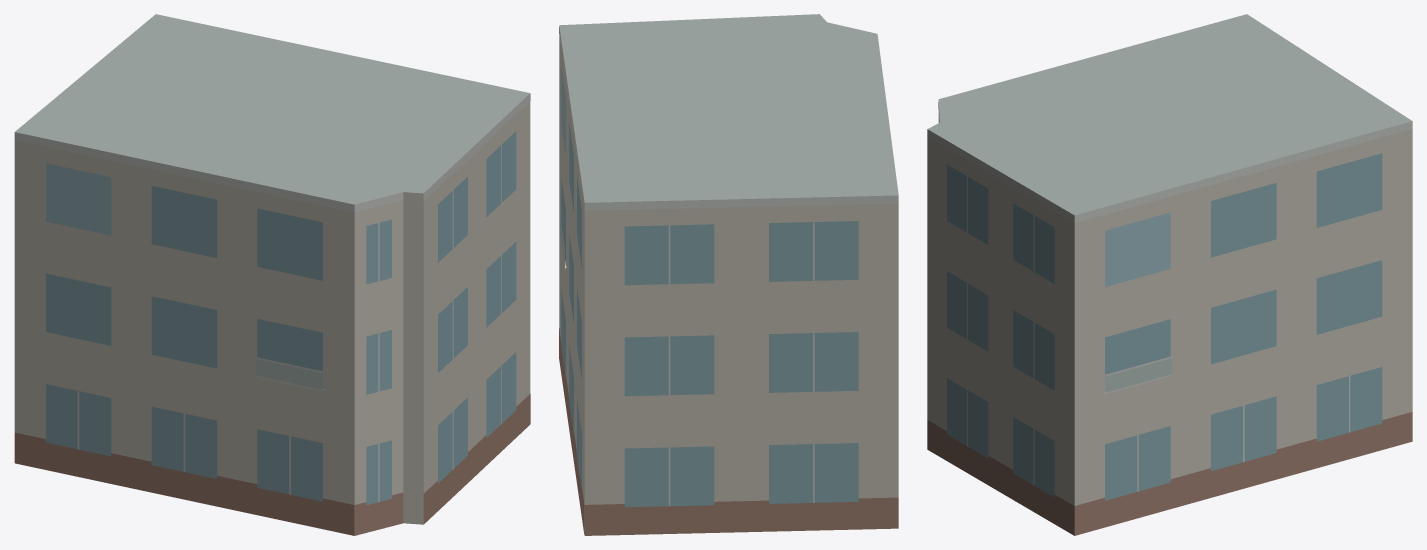
File: survey-upis-33003175.glb
3 renders of one model, left to right at view 1: azimuth 30°, elevation 25°; view 2: azimuth 150°, elevation 25°; view 3: azimuth 270°, elevation 25°, orthographic. The views are drawn at different scales.
Parts seen in each view (by area): view 1: survey-upis-33003175.tmp; view 2: survey-upis-33003175.tmp; view 3: survey-upis-33003175.tmp.
Boxes of the visible parts, x1,y1,x2,y2 form: survey-upis-33003175.tmp: (14, 14, 530, 535); survey-upis-33003175.tmp: (559, 14, 898, 535); survey-upis-33003175.tmp: (927, 14, 1412, 535).
Bounding box in the file's own units: 13.63 × 10.1 × 13.87.
